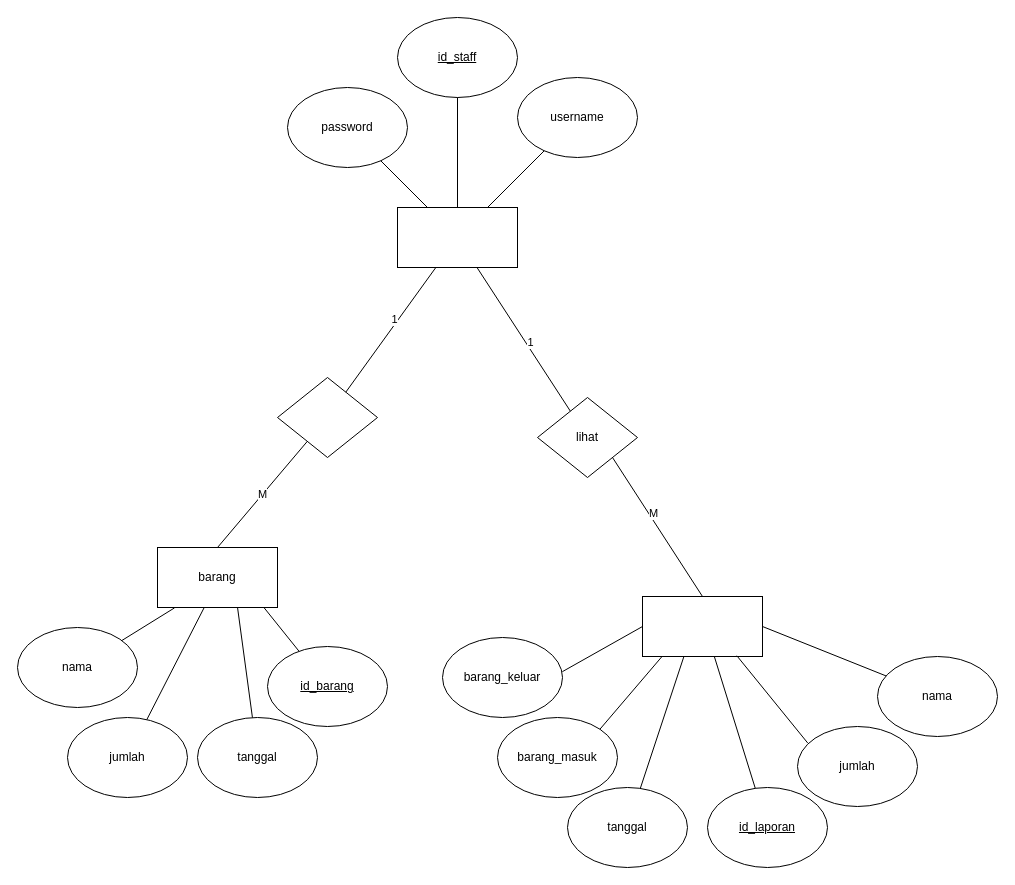
Image size: 1015x885. Some labels were removed from this diagram. The centre of each missing label's shape, as x and y in pixels:
kelola: (x=327, y=417)
laporan: (x=702, y=626)
staff: (x=457, y=237)
